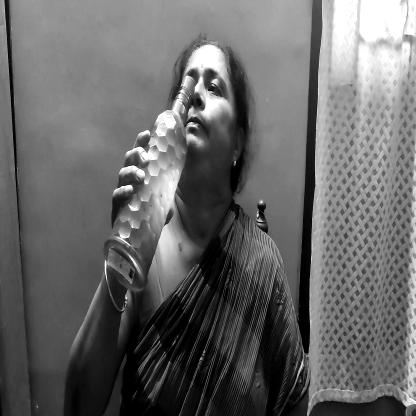Distracted: (183, 41, 244, 182)
